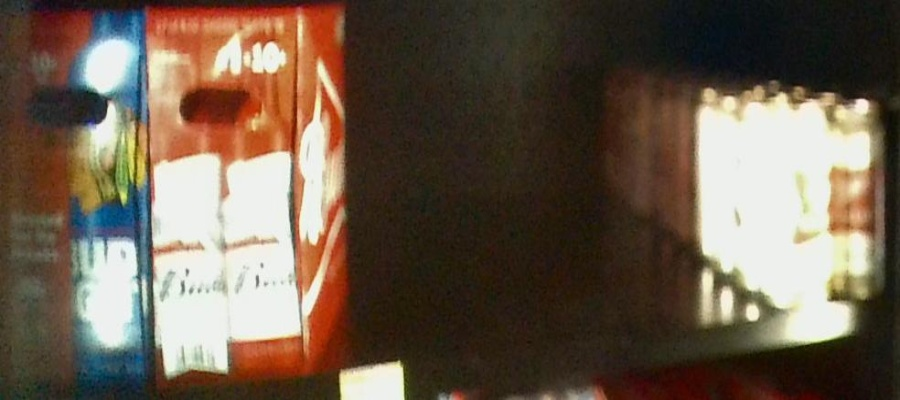bottle: (145, 9, 342, 367), (1, 10, 151, 391), (762, 105, 890, 308)
